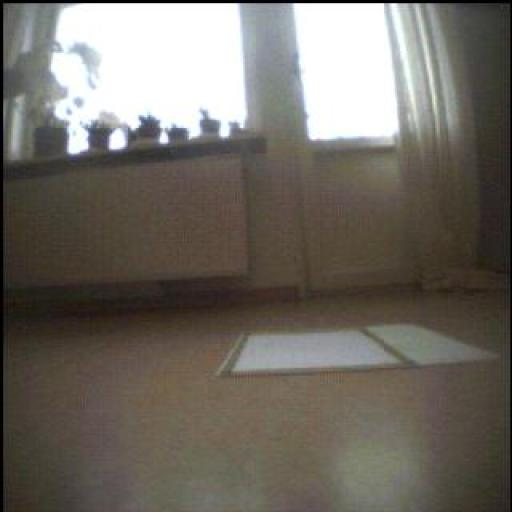Pad: (214, 327, 509, 381)
